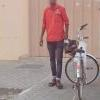bicycles: (62, 23, 99, 100)
